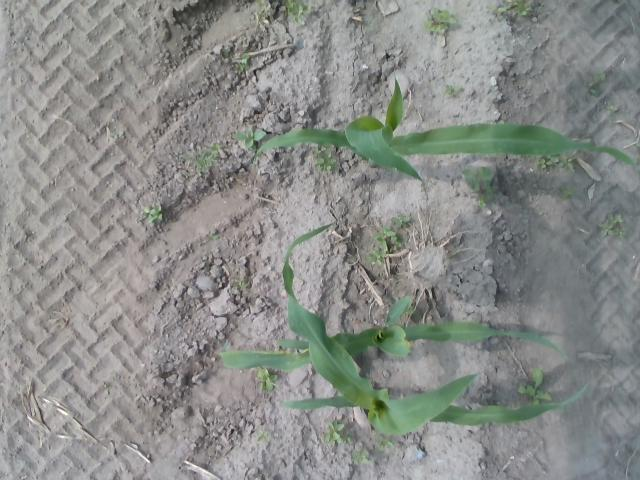Maize: (218, 218, 589, 436), (251, 69, 640, 181)
Weeds: (515, 366, 563, 405), (367, 226, 402, 268), (180, 148, 222, 180), (468, 166, 497, 207), (424, 8, 458, 36), (537, 154, 576, 174), (324, 418, 351, 446), (600, 214, 628, 238), (288, 1, 310, 30), (233, 128, 263, 148), (588, 72, 608, 100), (256, 371, 280, 393), (233, 276, 255, 298), (316, 152, 337, 174), (350, 447, 371, 467), (146, 206, 166, 226), (255, 3, 274, 24), (234, 52, 252, 71), (372, 436, 396, 450), (490, 4, 510, 20), (255, 433, 274, 446), (558, 186, 573, 202), (391, 216, 410, 228), (519, 6, 535, 20), (607, 107, 621, 118)
